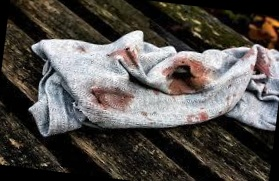blood: (163, 57, 209, 98), (90, 84, 137, 112), (108, 44, 139, 67), (253, 53, 274, 76)
